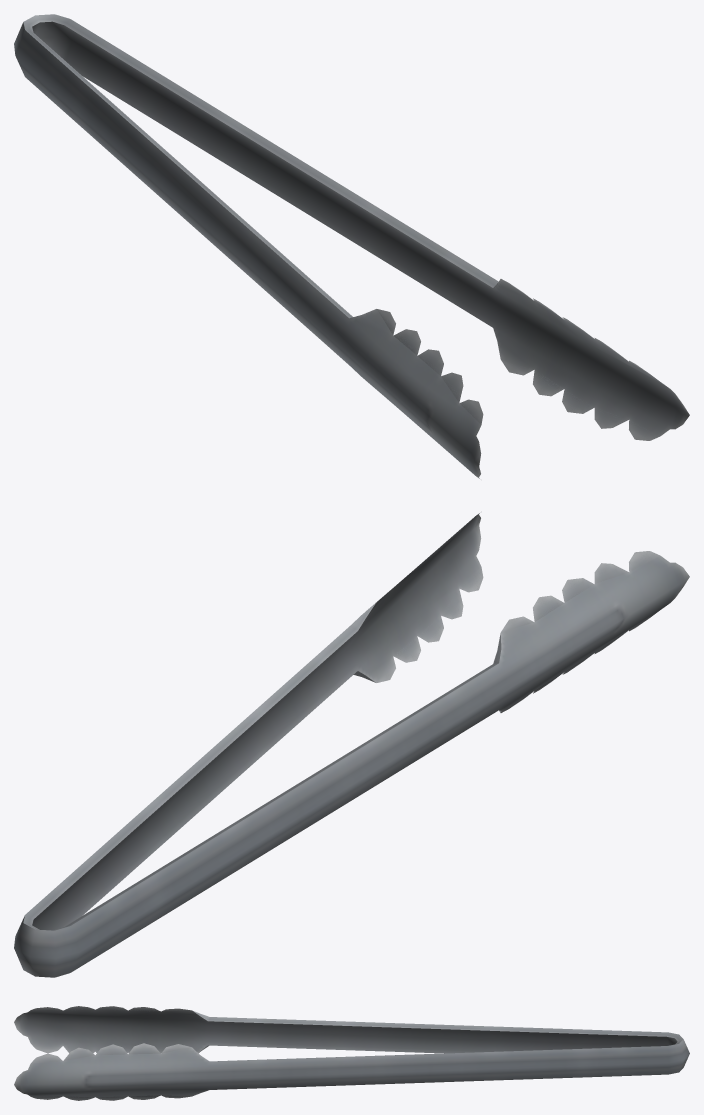
The model's file is jsf_Tong_02.fbx.
3 renders of one model, top to bottom at view 1: azimuth 30°, elevation 25°; view 2: azimuth 150°, elevation 25°; view 3: azimuth 270°, elevation 25°, orthographic. The views are drawn at different scales.
Parts seen in each view (by area): view 1: jsf_Tong_02; view 2: jsf_Tong_02; view 3: jsf_Tong_02.
Part boxes in pixels (<box>): jsf_Tong_02: <box>14,14,689,478</box>; jsf_Tong_02: <box>14,513,689,977</box>; jsf_Tong_02: <box>14,1006,689,1100</box>.
Size of the model in its own units: 6.6 by 2.78 by 29.91.
